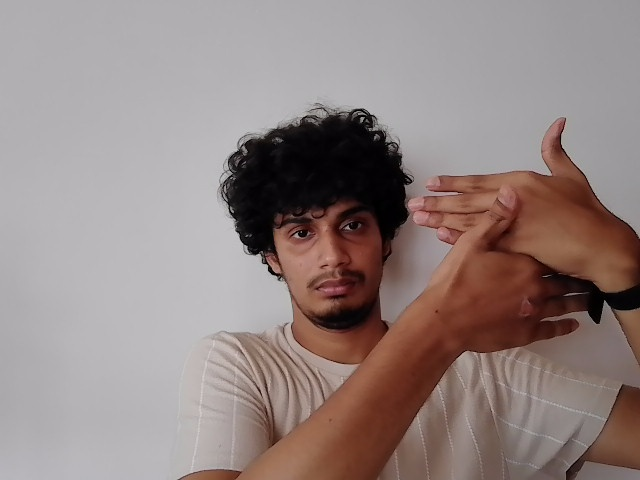work: (399, 113, 606, 342)
